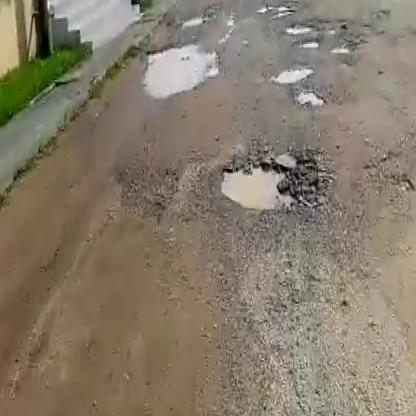pothole: (217, 146, 331, 219), (142, 43, 223, 97), (293, 85, 336, 112), (266, 63, 314, 87), (260, 0, 299, 18), (183, 18, 204, 29)
